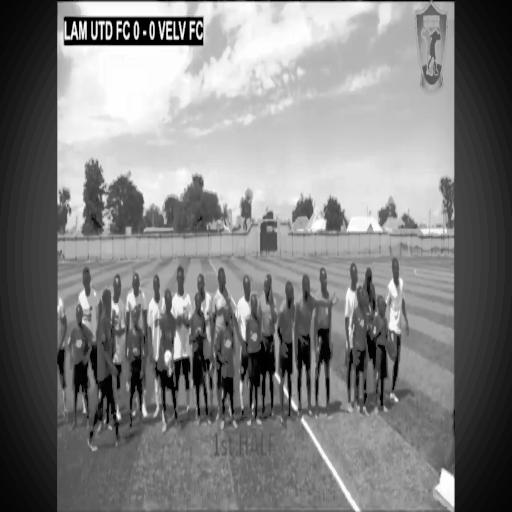ball: (162, 347, 170, 377)
referee: (315, 256, 333, 415), (259, 267, 278, 417), (296, 259, 312, 419), (280, 269, 294, 428)
team1: (388, 245, 406, 408)
